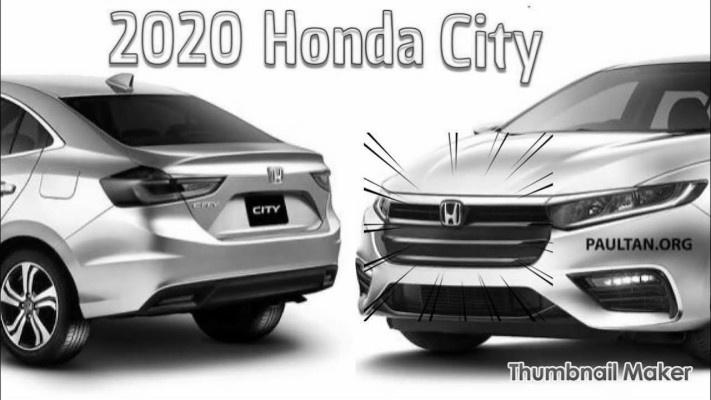Car boot: (126, 138, 337, 247)
Car hood: (378, 132, 711, 208)
Fender - -R-L-: (0, 146, 121, 257)
Front bumper: (353, 226, 711, 346)
Headlight - -L-: (543, 173, 711, 231)
Headlight - -R-: (366, 188, 397, 232)
Rear bumper: (72, 203, 349, 325)
Rear light - -L-: (98, 160, 228, 212)
Rear light - -R-: (302, 165, 339, 199)
Side mirror - -R-: (458, 119, 503, 138)
